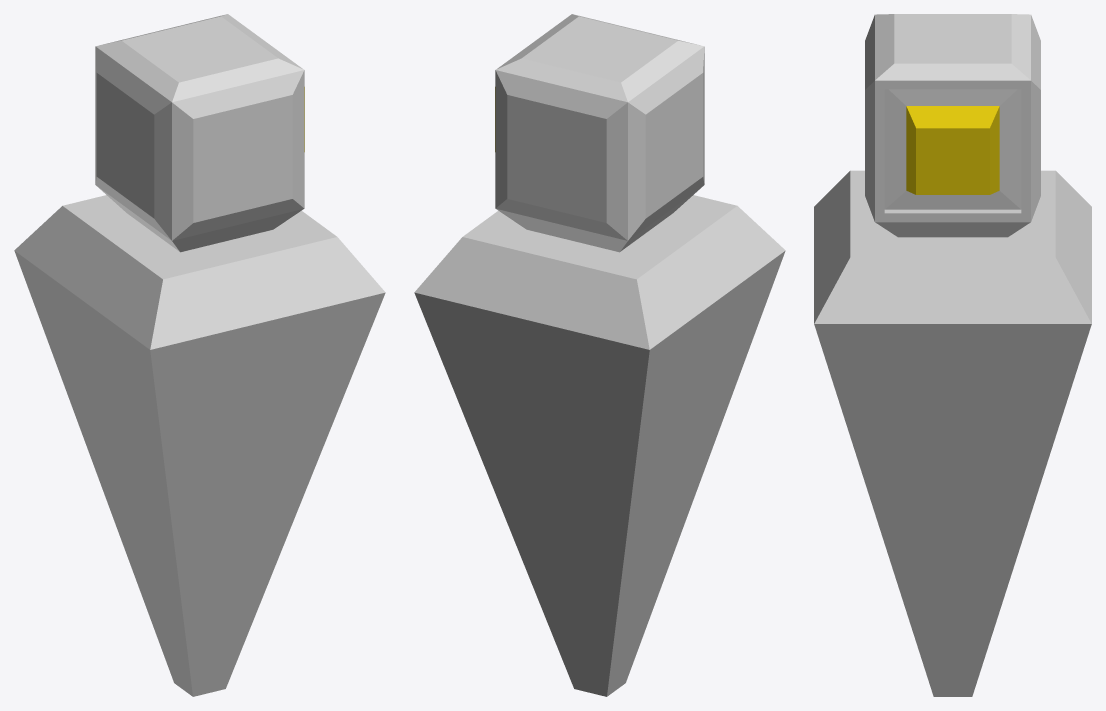
Rendered from Player.fbx.
3 renders of one model, left to right at view 1: azimuth 30°, elevation 25°; view 2: azimuth 150°, elevation 25°; view 3: azimuth 270°, elevation 25°, orthographic. The views are drawn at different scales.
Parts seen in each view (by area): view 1: Cube.001; view 2: Cube.001; view 3: Cube.001.
Part boxes in pixels (x1=…): Cube.001: x1=14, y1=14, x2=385, y2=696; Cube.001: x1=414, y1=14, x2=785, y2=696; Cube.001: x1=814, y1=14, x2=1091, y2=696.
Bounding box in the file's own units: 200 × 517 × 200.
